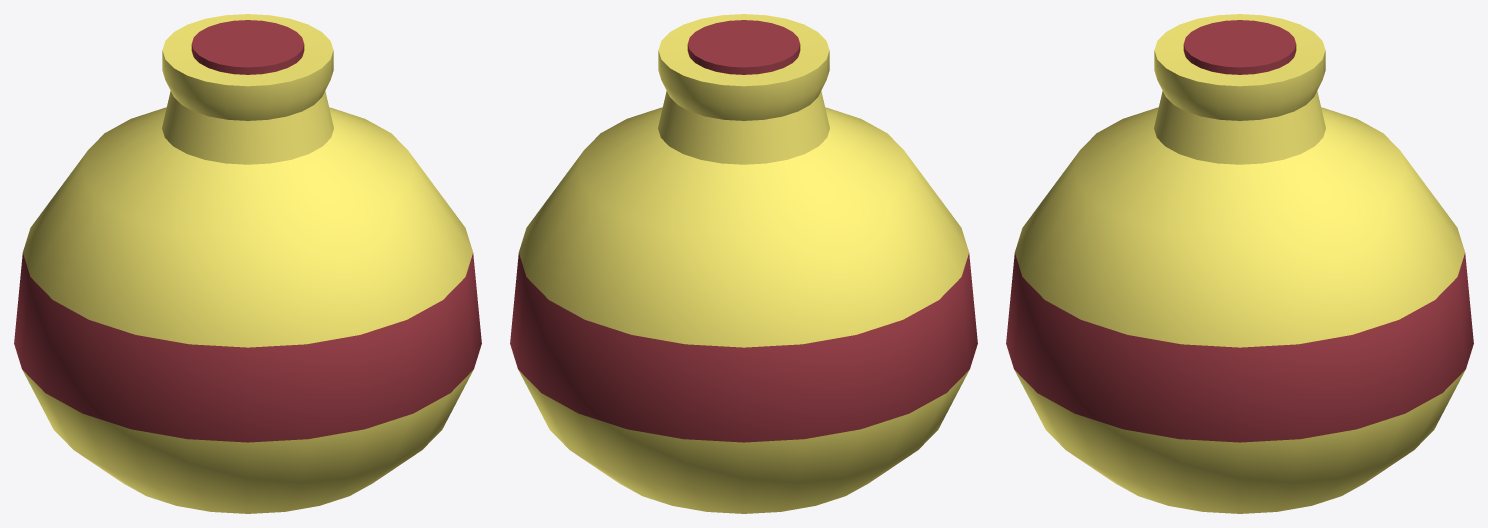
File: Pot.glb
The picture shows the model from 3 angles, left to right: view 1: azimuth 30°, elevation 25°; view 2: azimuth 150°, elevation 25°; view 3: azimuth 270°, elevation 25°; orthographic projection.
Visible parts, largest first — view 1: pot, opa; view 2: pot, opa; view 3: pot, opa.
Part boxes in pixels (bbox=[...]): pot: bbox=[14, 14, 481, 513]; opa: bbox=[191, 20, 304, 74]; pot: bbox=[510, 14, 977, 513]; opa: bbox=[687, 20, 800, 74]; pot: bbox=[1006, 14, 1473, 513]; opa: bbox=[1183, 20, 1296, 74].
Bounding box in the file's own units: 0.8962 × 0.8655 × 0.8962.
Materials: 1 (1 with a texture image).
